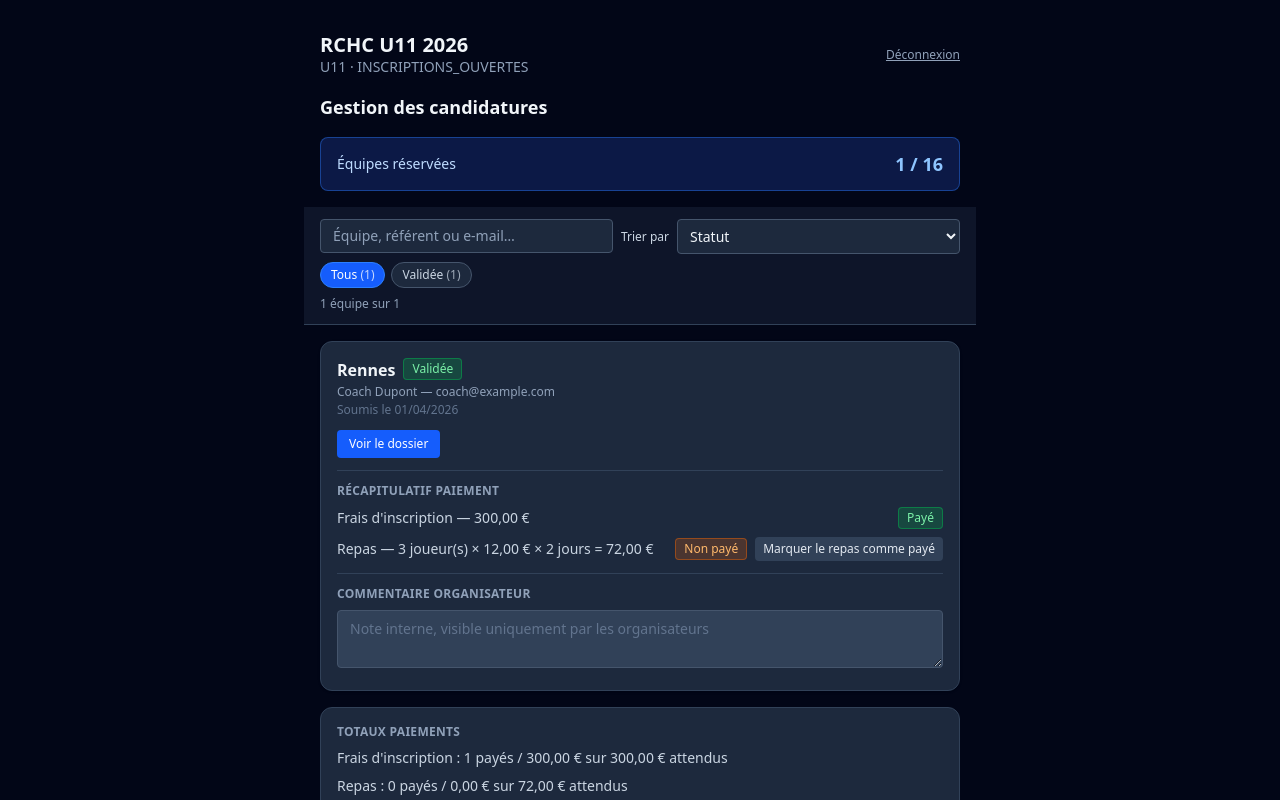
Scenario: InscriptionPage — vue organisateur — récapitulatif de paiement › propose le type virement par défaut et impose la date avant de valider le paiement des repas
Expected: the text "Rennes" is shown, [337, 358, 396, 382]
Step 1. Click the button "Marquer le repas comme payé" → (849, 549), box [755, 537, 943, 561]
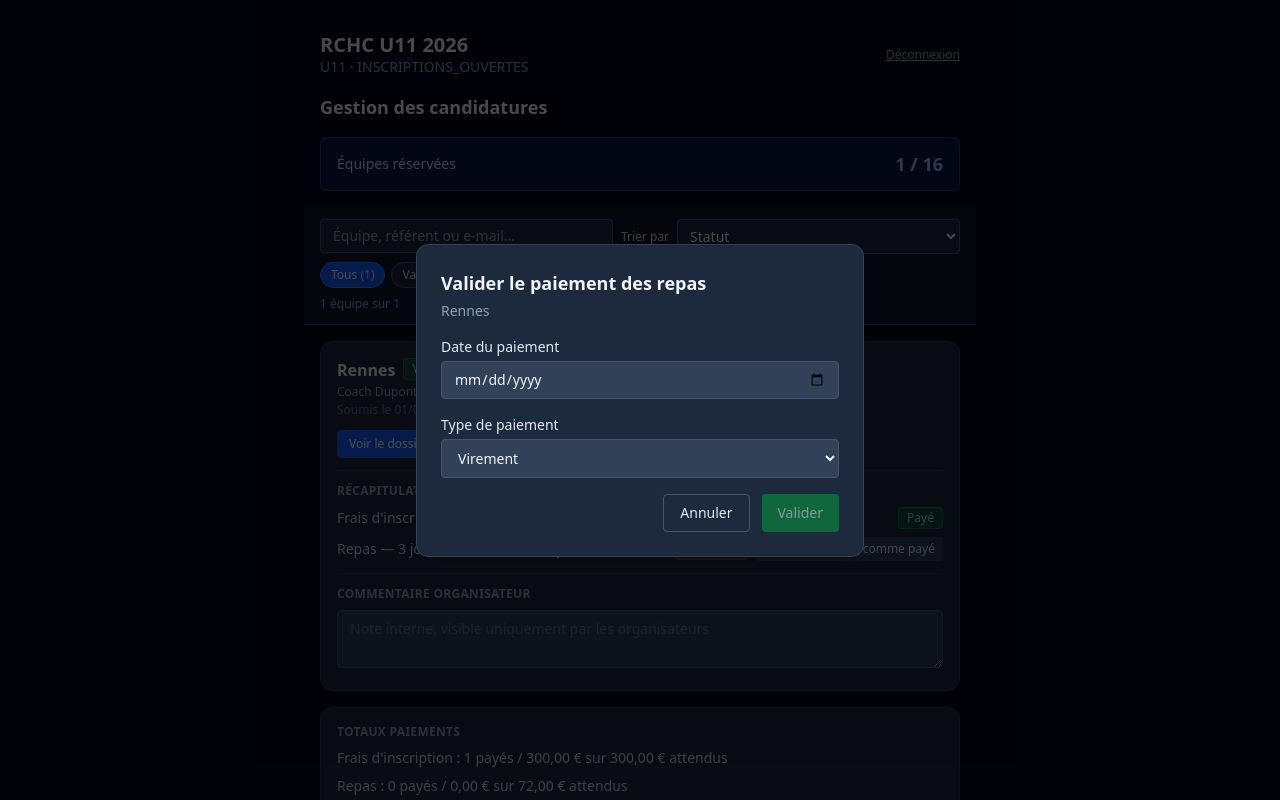
Expected: the heading "Valider le paiement des repas" is shown, [441, 270, 706, 294]
Expected: the dropdown labelled "Type de paiement" shows "Virement", [441, 438, 839, 478]
Expected: the button "Valider" is disabled, [762, 494, 839, 532]
